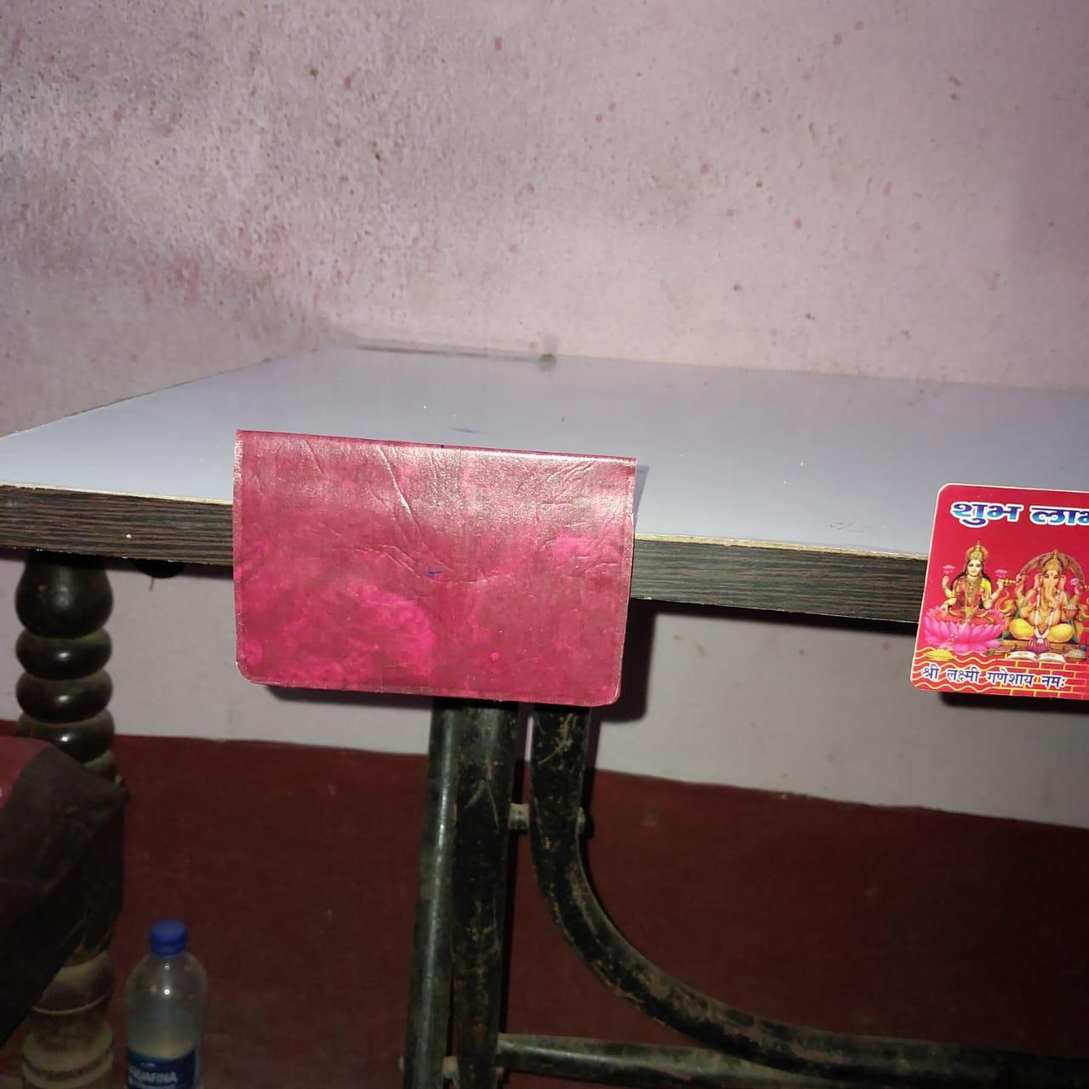blessing_card: (910, 487, 1088, 704)
wallet: (226, 417, 647, 704)
